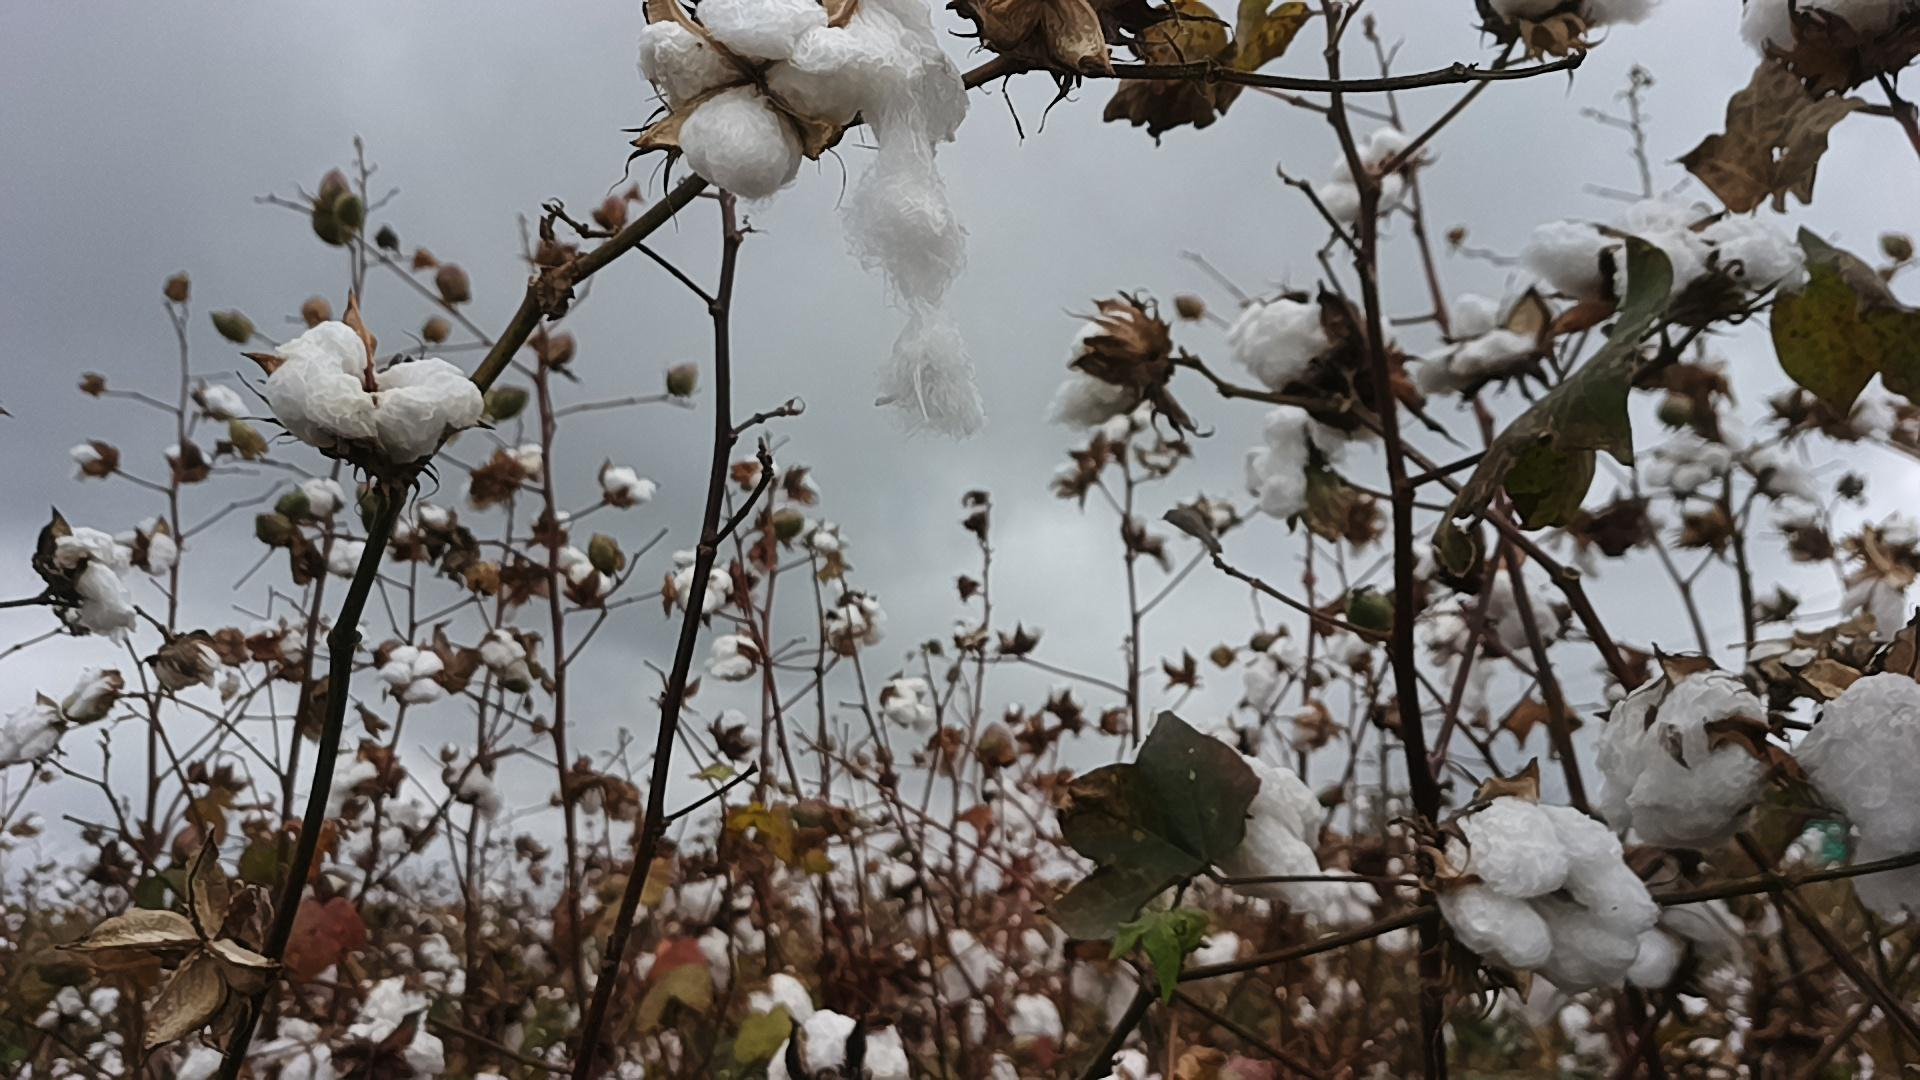cotton_ready: (849, 0, 982, 435), (638, 0, 856, 198), (1448, 800, 1662, 990), (1519, 200, 1808, 319), (1596, 663, 1771, 853), (1796, 673, 1920, 924), (266, 322, 480, 455), (1224, 758, 1325, 905), (1412, 290, 1535, 397), (1240, 406, 1341, 521), (766, 1006, 909, 1080), (1741, 0, 1920, 58), (1050, 313, 1138, 423), (1317, 133, 1423, 218), (1225, 301, 1328, 385), (55, 527, 131, 630), (348, 1015, 443, 1080), (1498, 0, 1654, 30), (0, 705, 55, 767)
